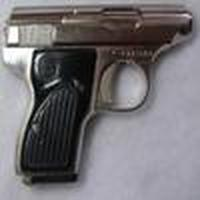gun: (3, 2, 200, 187)
